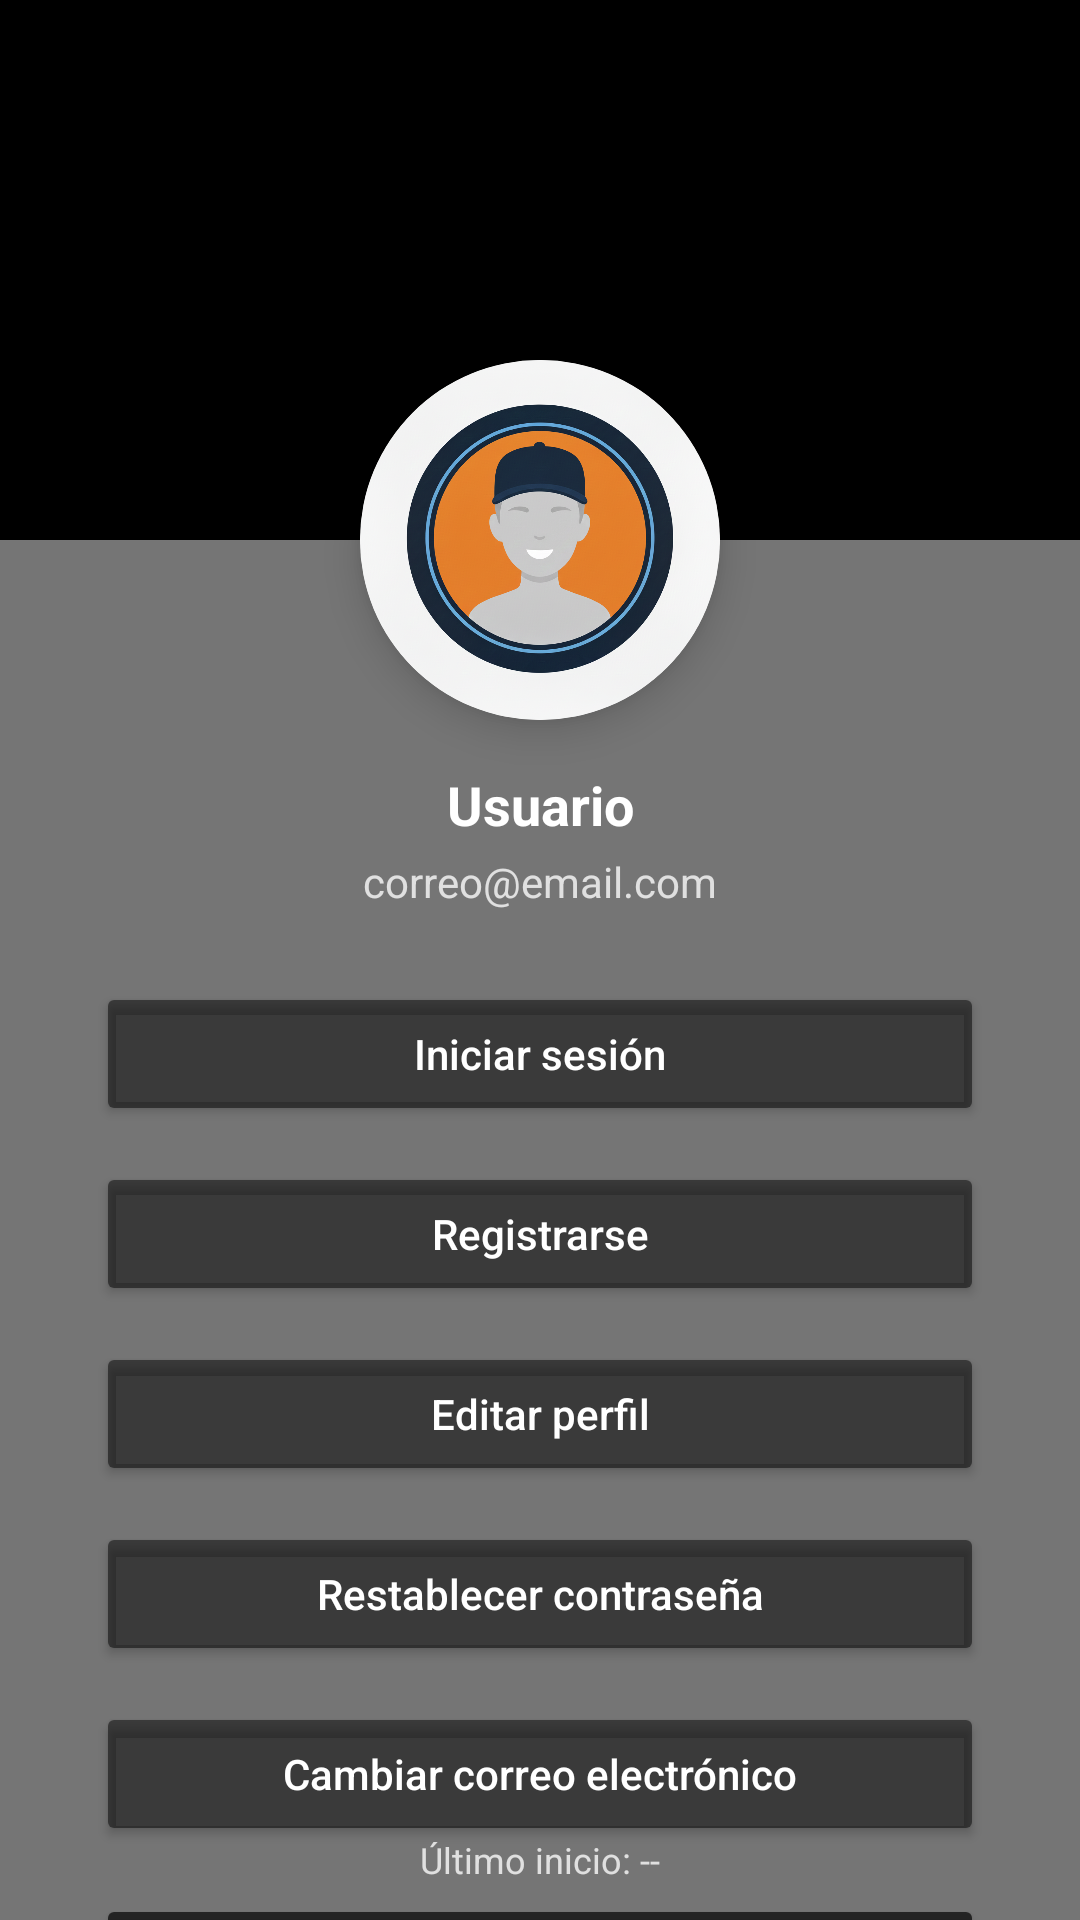

Screen size 1080×1920. Icon name, then its center in pixels as point (x, y):
avatarinvitado: point (540, 540)
